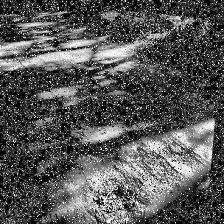pothole: (35, 78, 175, 182), (94, 178, 162, 224)
